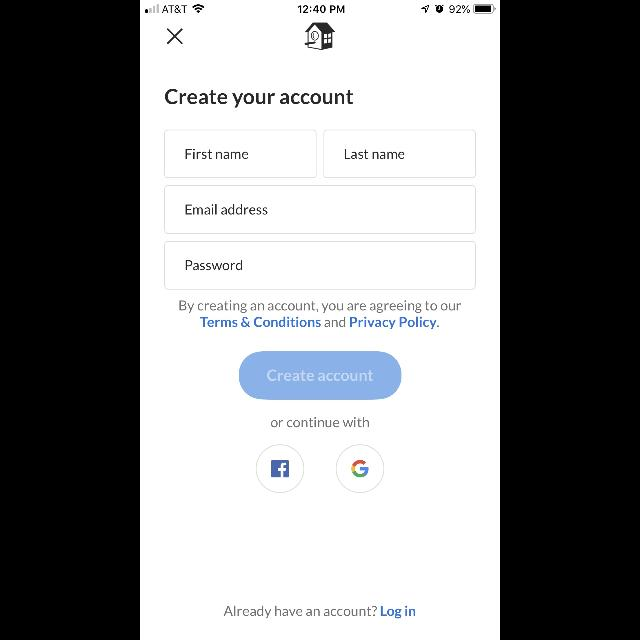icon: (256, 444, 304, 494), (336, 444, 384, 494), (304, 22, 336, 50), (167, 29, 183, 45)
input: (164, 241, 476, 289), (164, 186, 476, 234), (323, 130, 475, 178), (165, 130, 317, 178)
text: (180, 300, 460, 330), (165, 89, 353, 108), (224, 606, 416, 618), (271, 417, 369, 428), (186, 204, 268, 216), (186, 148, 248, 160), (344, 148, 404, 160), (185, 260, 242, 270)
textbutton: (239, 350, 401, 400)
uppertaskbar: (140, 0, 500, 14)
